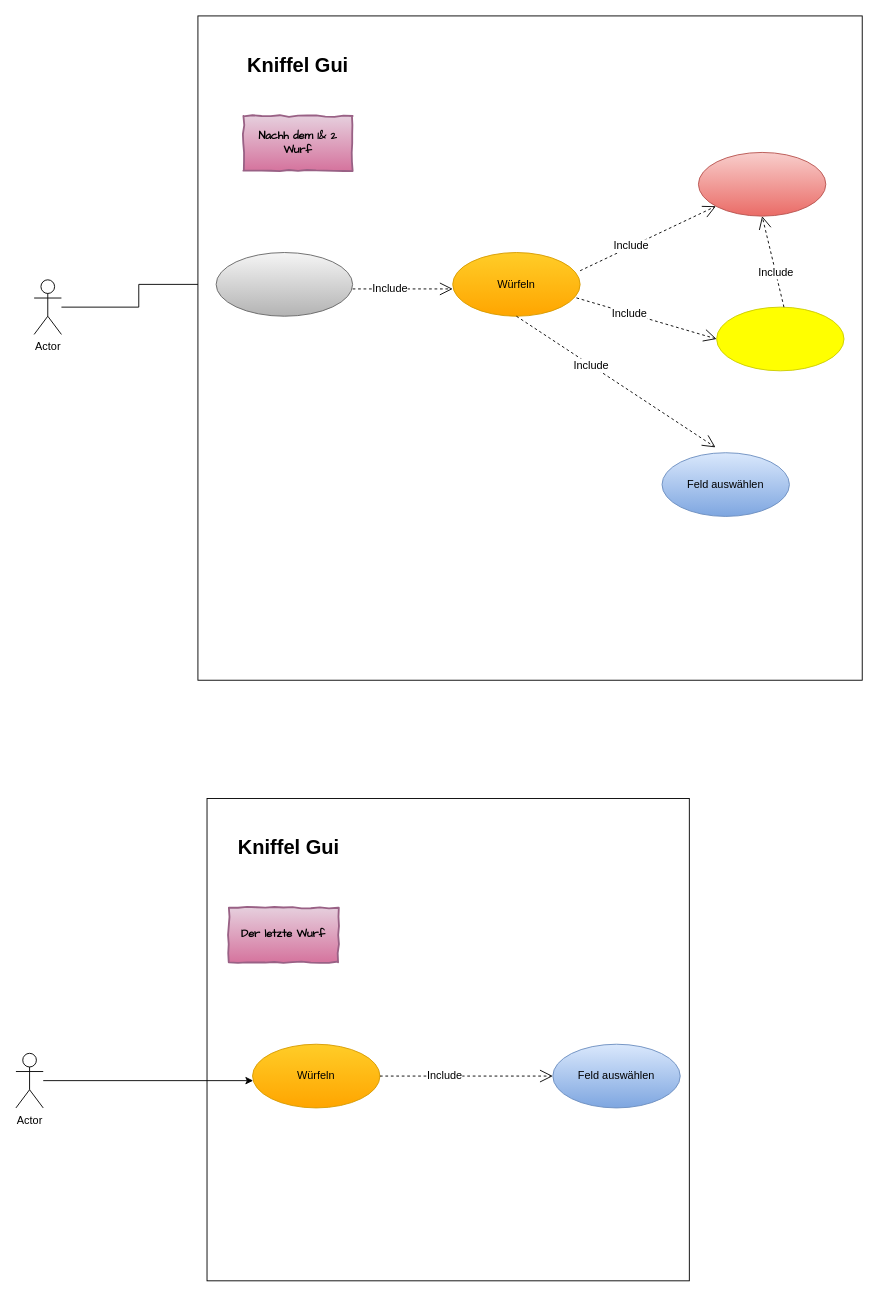
This 878x1297 diagram has some shape labels left out. The shapes that lost their labels are listed below. From the top down, each one's centre as x and y in pixels, then its label:
At (762,184): "Nochmal würfeln".
At (284,284): "Spiel starten".
At (780,338): "Würfel auswählen".
